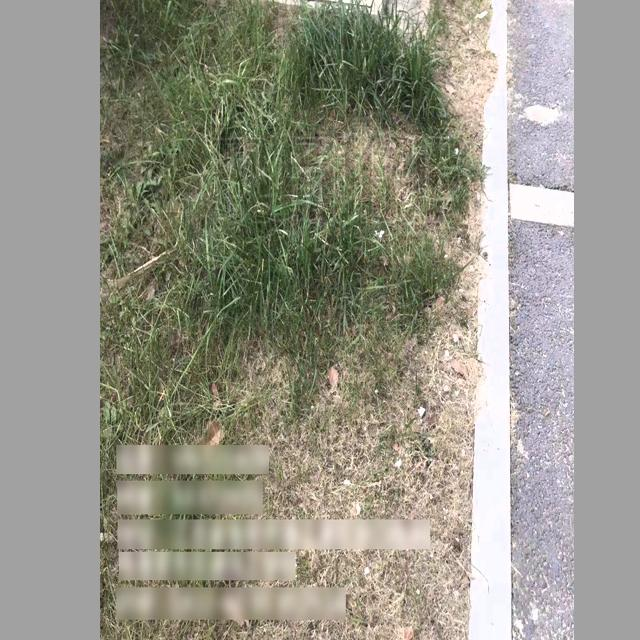good: (232, 0, 407, 19)
